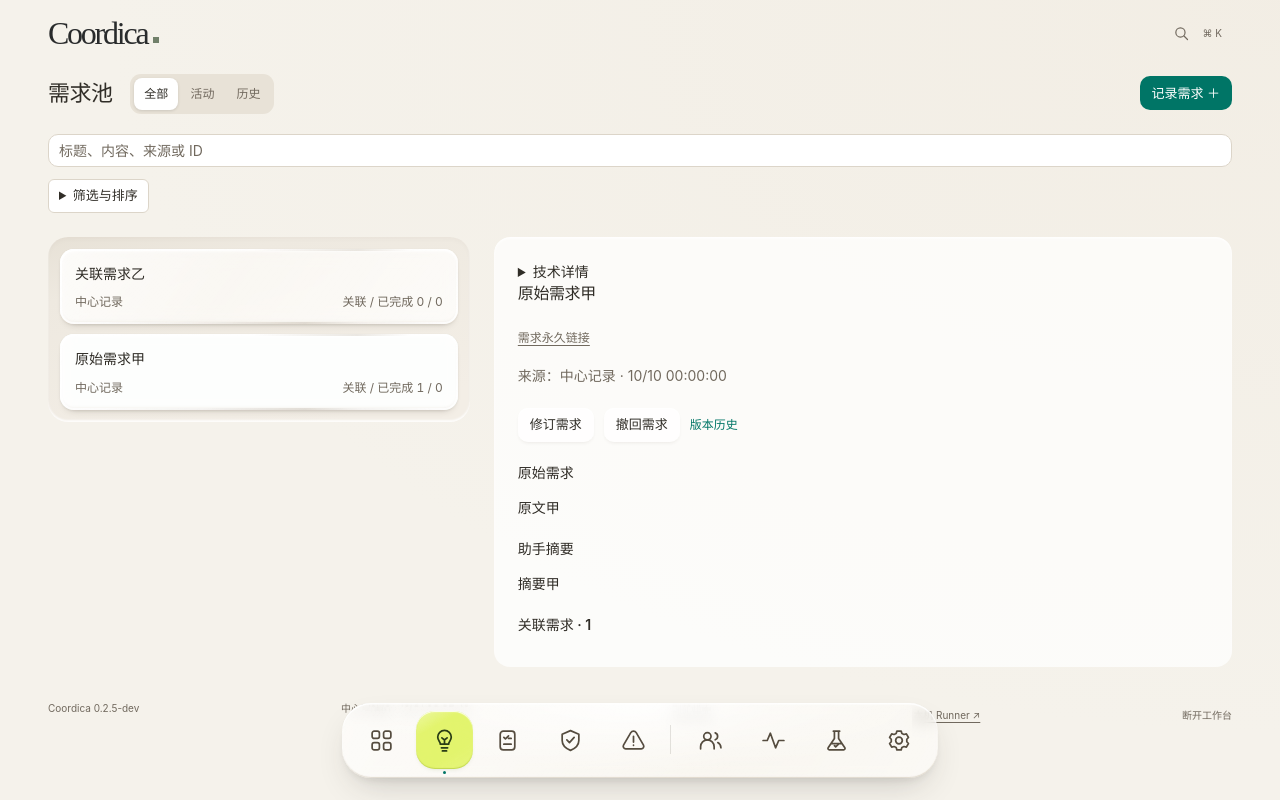
keeps all pools reachable from the compact Dock without a duplicate pool switch
Check: the heading "原始需求甲" is shown, box [518,282,596,302]
Click the button named "审查池". click: coordinates (570, 740)
box: [544,714,596,766]
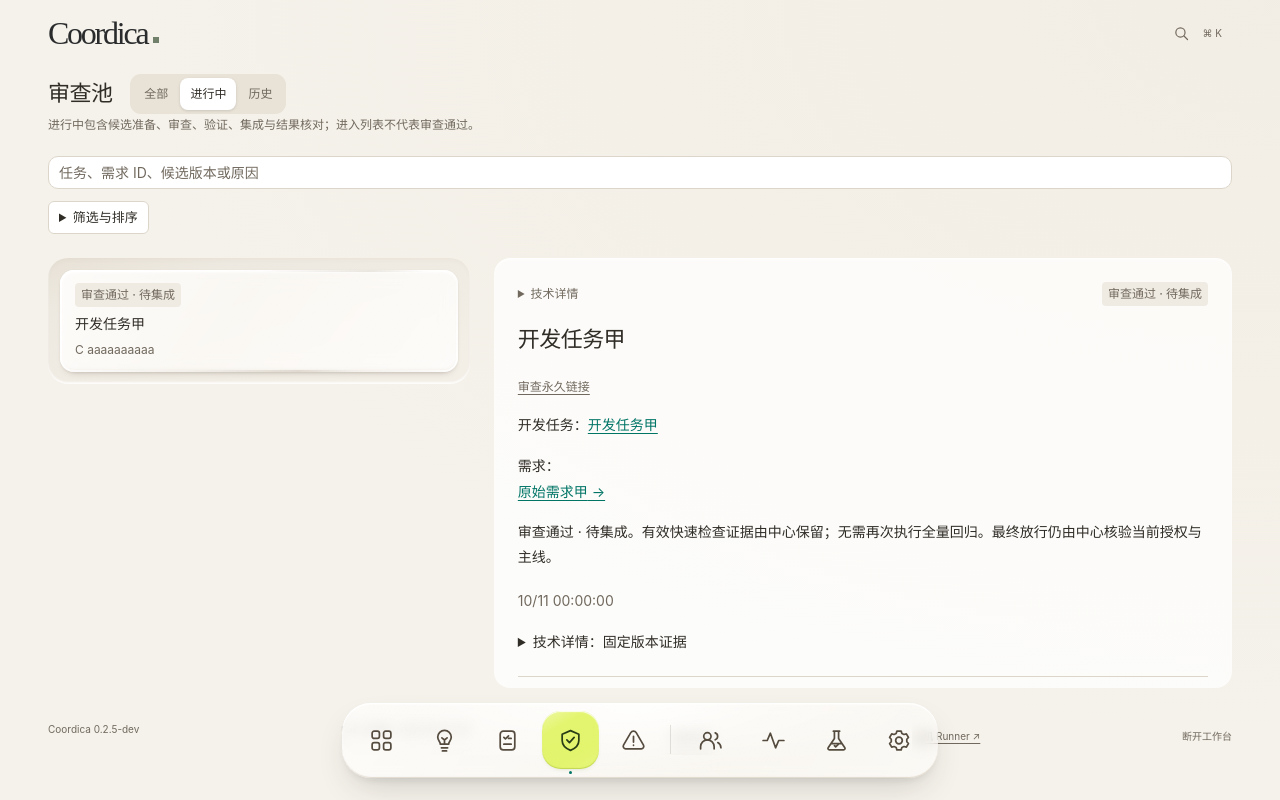
Check: the heading "审查池" is shown, box [48,80,112,108]
